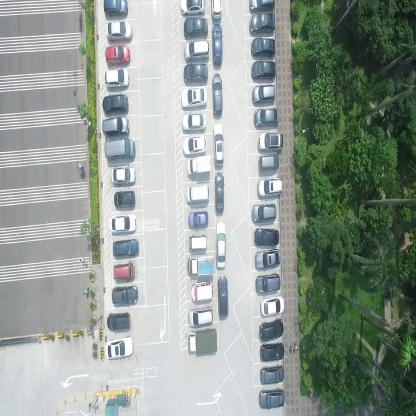car: (187, 326, 217, 356), (186, 252, 215, 280), (104, 136, 135, 162), (104, 334, 134, 360), (180, 86, 209, 110), (256, 174, 282, 199), (259, 317, 284, 343), (112, 284, 138, 308), (188, 303, 214, 327), (255, 271, 281, 295), (258, 387, 285, 410), (254, 247, 281, 270), (108, 212, 137, 233), (182, 134, 207, 158), (106, 19, 132, 42), (104, 45, 131, 67), (249, 12, 276, 34), (102, 116, 129, 138), (190, 278, 213, 303), (260, 293, 285, 316), (112, 238, 138, 260), (186, 154, 212, 176), (259, 362, 285, 384), (250, 36, 276, 58), (102, 93, 128, 115), (183, 40, 210, 61), (215, 217, 226, 268), (211, 71, 223, 117), (217, 272, 229, 318), (260, 341, 284, 364), (104, 68, 129, 90), (106, 310, 131, 332), (111, 164, 136, 186), (258, 131, 284, 152), (253, 227, 279, 248), (182, 17, 209, 37), (212, 122, 224, 166), (252, 83, 276, 105), (181, 112, 206, 133), (254, 106, 279, 127), (250, 60, 276, 80), (252, 202, 276, 223), (183, 63, 208, 83), (185, 183, 210, 203), (212, 22, 223, 66), (214, 171, 225, 214), (187, 231, 208, 252), (258, 152, 278, 174), (103, 0, 128, 17), (188, 209, 209, 228), (114, 190, 135, 209), (113, 262, 135, 280), (180, 0, 205, 15), (249, 0, 275, 10), (210, 0, 223, 19)
